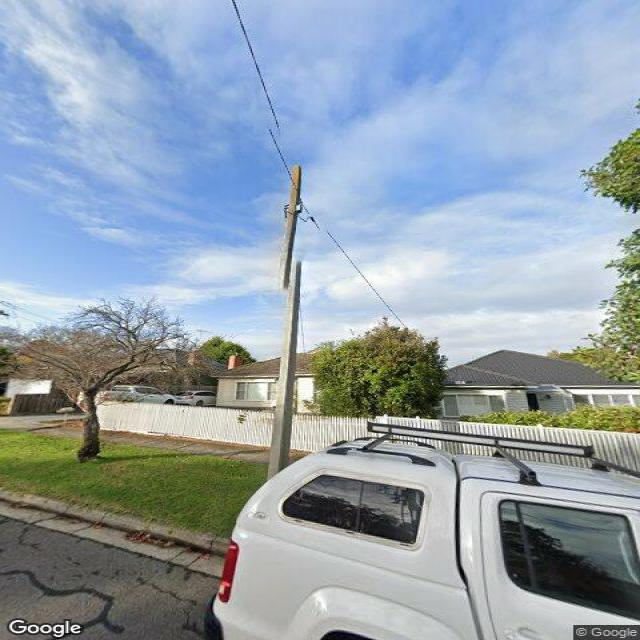timber-pole: (266, 162, 308, 483)
